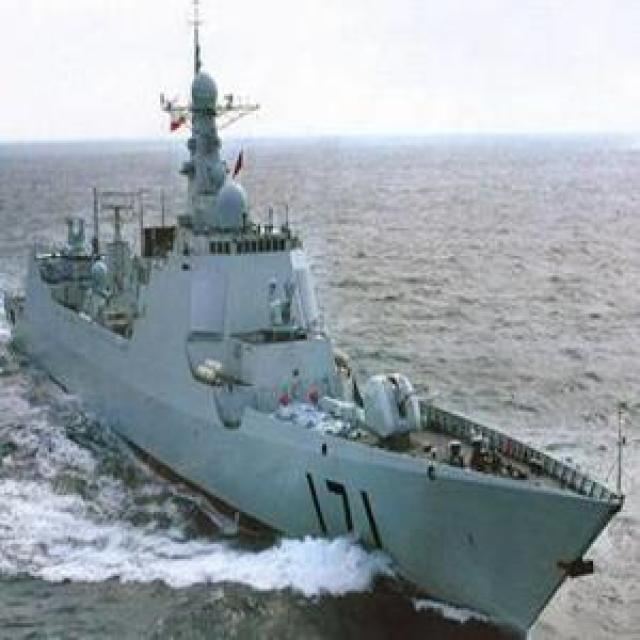navalvessels: (15, 52, 615, 639)
